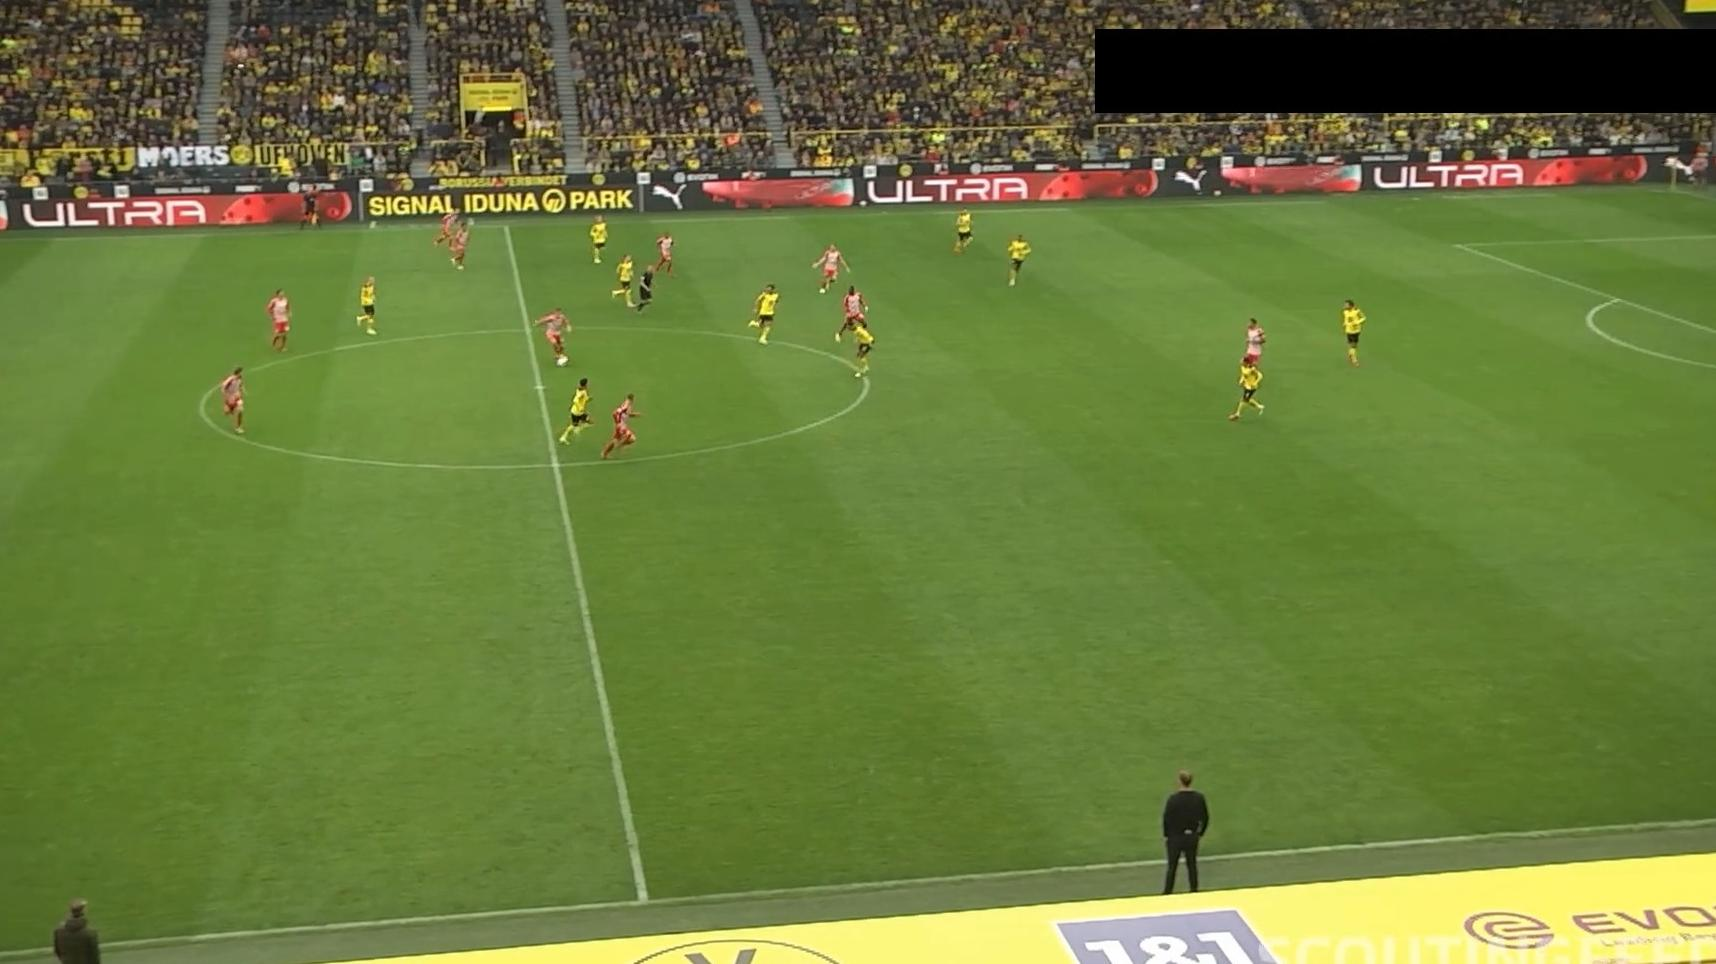ball: (555, 354, 569, 368)
